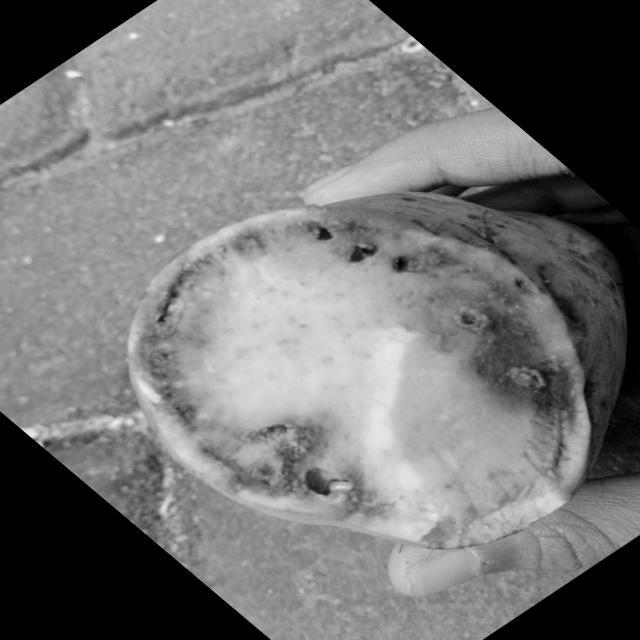Sick Sweet Potato_Tuber Rot: (130, 220, 587, 548)
